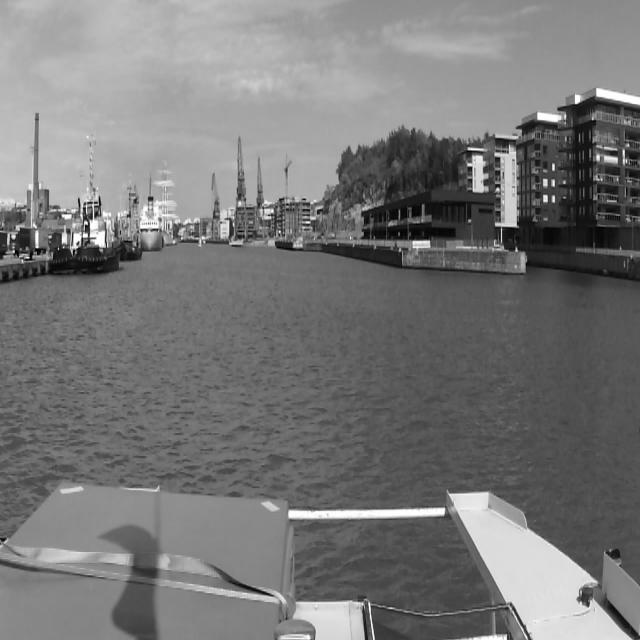ship: (74, 134, 120, 274), (156, 162, 176, 246), (123, 185, 141, 261), (49, 227, 72, 273), (143, 197, 161, 250)
